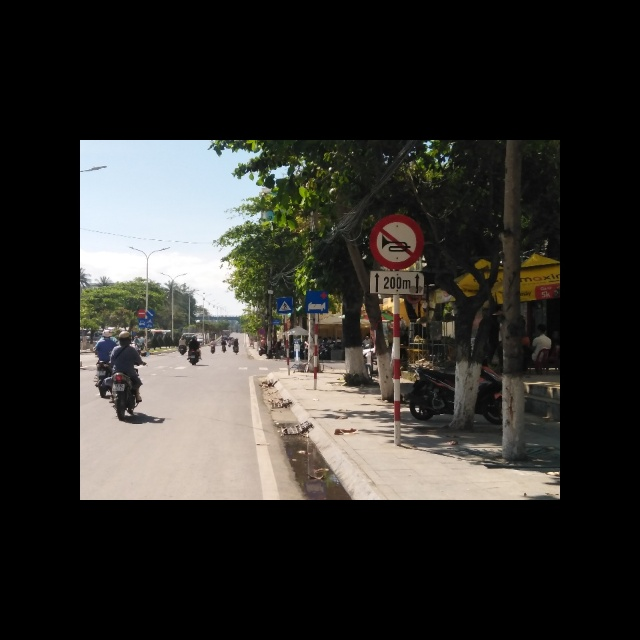Bệnh viện: (306, 290, 328, 313)
Cấm bấm còi: (370, 215, 423, 269)
Đường dành cho người đi bộ: (276, 298, 293, 315)
